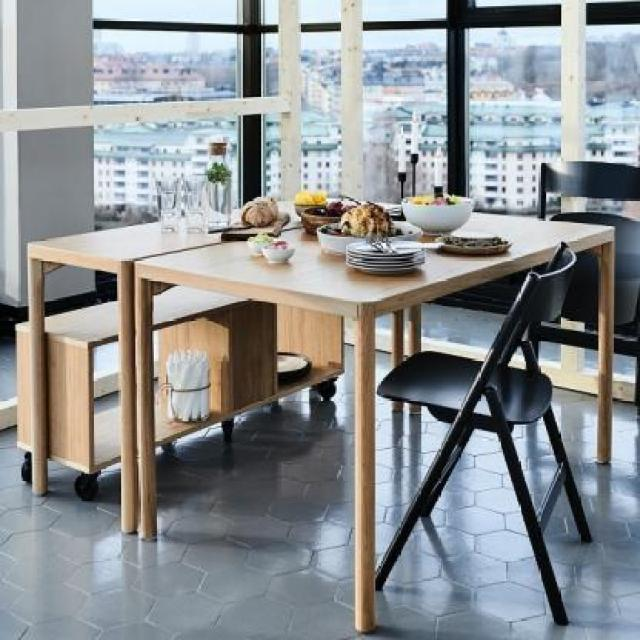tables: (128, 204, 615, 634)
